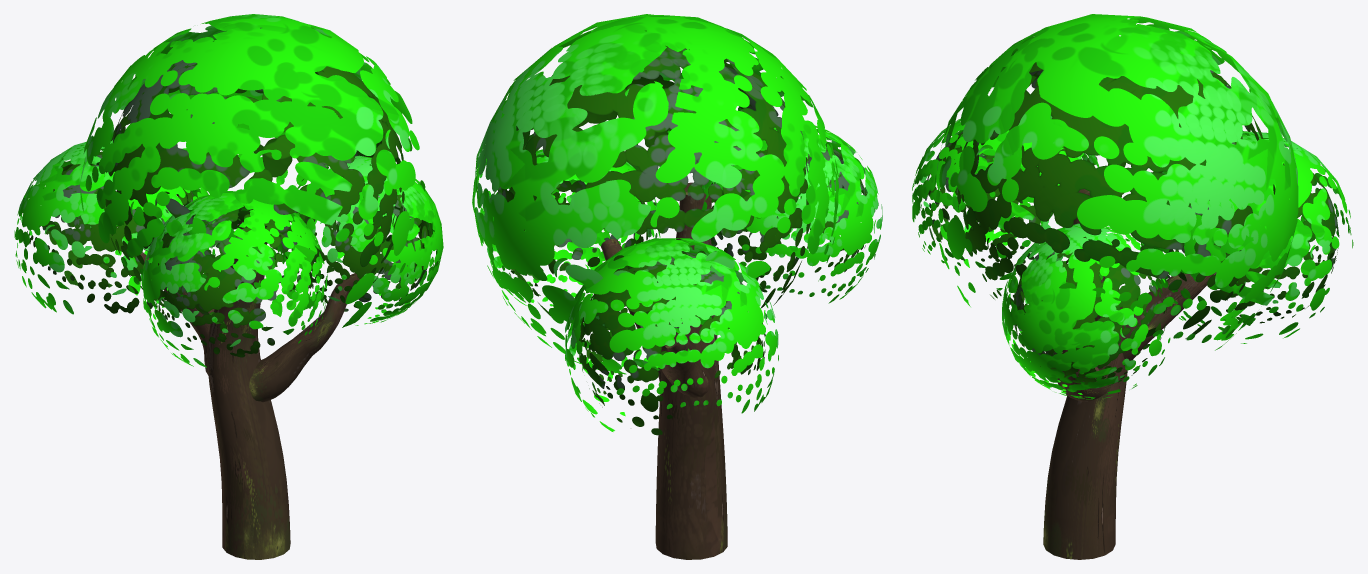
The model's file is tree1.fbx.
3 renders of one model, left to right at view 1: azimuth 30°, elevation 25°; view 2: azimuth 150°, elevation 25°; view 3: azimuth 270°, elevation 25°, orthographic. The views are drawn at different scales.
Visible parts, largest first — view 1: Icosphere.014, Cylinder.001, Icosphere.012, Icosphere.015, Icosphere.016, Icosphere.018, Icosphere.013, Icosphere.017, Cylinder.002, Icosphere.019; view 2: Icosphere.014, Icosphere.016, Icosphere.015, Cylinder.001, Icosphere.012, Icosphere.017, Icosphere.018, Icosphere.013, Cylinder, Icosphere.019; view 3: Icosphere.014, Icosphere.015, Icosphere.018, Cylinder.001, Icosphere.016, Icosphere.012, Icosphere.019, Icosphere.017, Cylinder, Icosphere.013, Cylinder.002.
Part boxes in pixels (x1,y1,x2,y2): Icosphere.014: [80, 14, 425, 334]; Cylinder.001: [207, 210, 290, 559]; Icosphere.012: [141, 190, 327, 367]; Icosphere.015: [104, 60, 405, 314]; Icosphere.016: [14, 140, 215, 314]; Icosphere.018: [277, 155, 443, 325]; Icosphere.013: [155, 205, 316, 357]; Icosphere.017: [27, 151, 194, 313]; Cylinder.002: [249, 273, 359, 402]; Icosphere.019: [304, 183, 432, 311]; Icosphere.014: [472, 14, 838, 374]; Icosphere.016: [565, 238, 778, 431]; Icosphere.015: [498, 45, 811, 316]; Cylinder.001: [655, 182, 727, 559]; Icosphere.012: [702, 125, 882, 303]; Icosphere.017: [578, 252, 765, 435]; Icosphere.018: [487, 149, 660, 306]; Icosphere.013: [711, 146, 866, 292]; Cylinder: [661, 332, 708, 397]; Icosphere.019: [508, 163, 650, 295]; Icosphere.014: [934, 14, 1298, 350]; Icosphere.015: [957, 62, 1275, 350]; Icosphere.018: [1002, 223, 1170, 399]; Cylinder.001: [1043, 189, 1127, 559]; Icosphere.016: [1141, 131, 1353, 343]; Icosphere.012: [912, 115, 1099, 290]; Icosphere.019: [1013, 236, 1166, 387]; Icosphere.017: [1167, 163, 1339, 323]; Cylinder: [1122, 246, 1225, 360]; Icosphere.013: [925, 131, 1068, 266]; Cylinder.002: [1045, 350, 1109, 401].
Bounding box in the file's own units: 1101 × 1589 × 1219.
3 materials, 3 textured.
